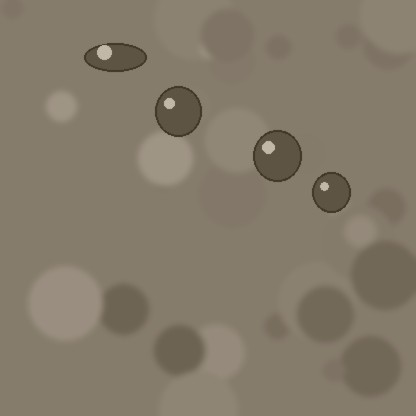gota: (253, 132, 301, 186), (155, 88, 201, 140), (84, 44, 146, 74), (312, 174, 350, 216)
